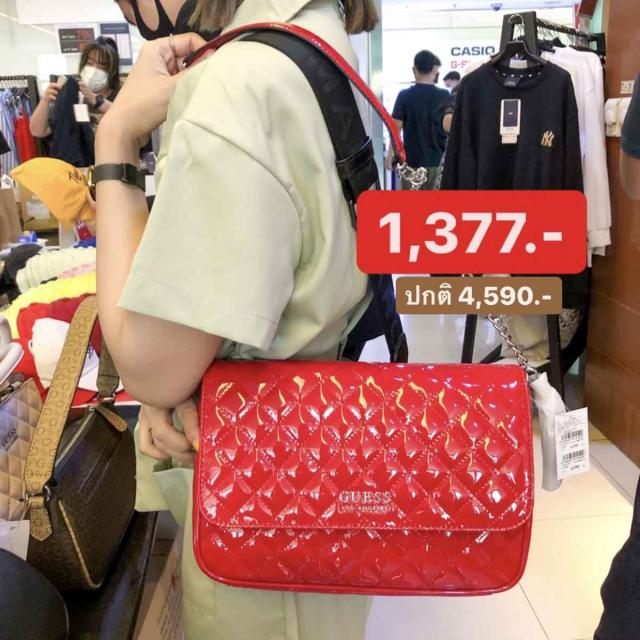handbag: (188, 362, 534, 596)
